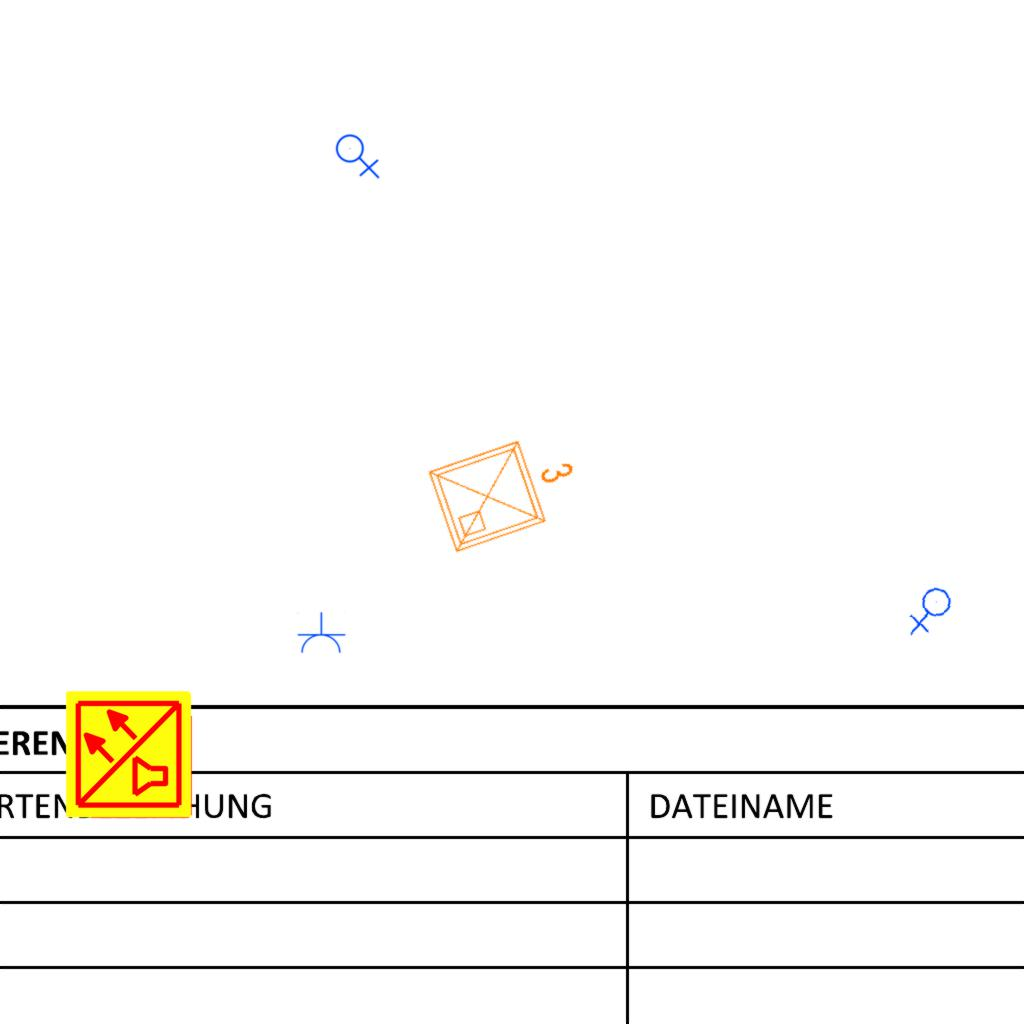Einbaudownlights_LED_Konferenzraeume: (418, 414, 594, 562)
Elektroanschluss_allgemein_230V_Geraeteanschlussdose_230V: (904, 585, 959, 638), (335, 130, 382, 179)
OKW_Multisensormelder_(Kombination_optischer_Rauch-Kahlenmonoxid_Waerme-Melder): (63, 688, 195, 820)
Schukosteckdose_einfach: (296, 612, 346, 655)
